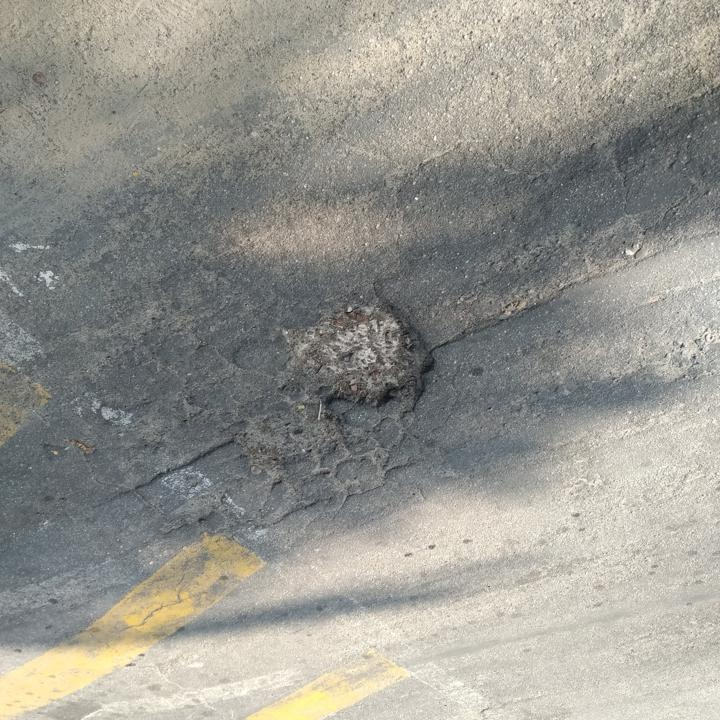pothole: (274, 295, 440, 417), (229, 407, 344, 473), (155, 492, 218, 537)
